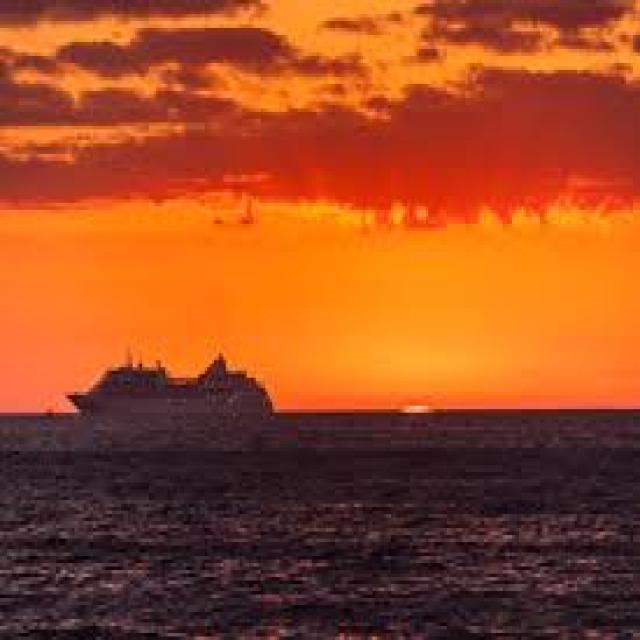navalvessels: (65, 332, 276, 432)
